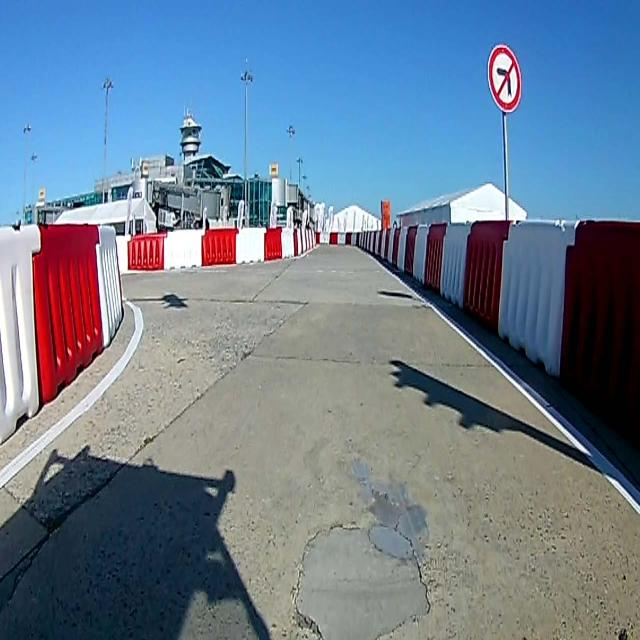soladonulmez: (488, 46, 520, 110)
